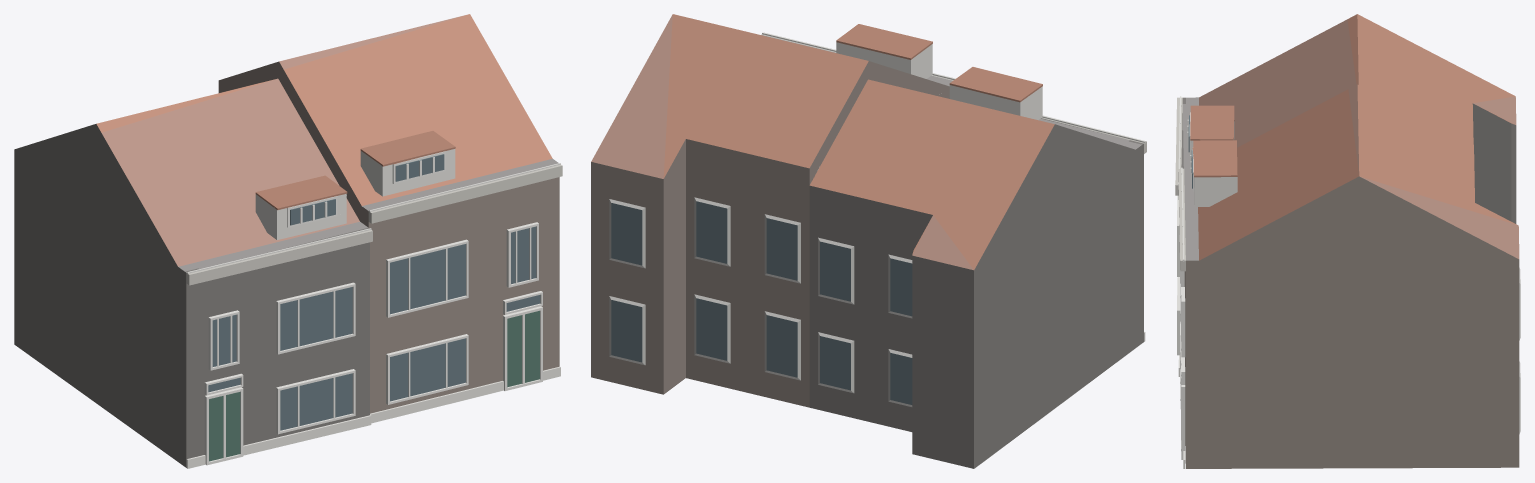
Rendered from chunk-face-kalkoen-18-26-r1.lod2.glb.
3 renders of one model, left to right at view 1: azimuth 30°, elevation 25°; view 2: azimuth 150°, elevation 25°; view 3: azimuth 270°, elevation 25°, orthographic. The views are drawn at different scales.
Visible parts, largest first — view 1: lod2; view 2: lod2; view 3: lod2.
Part boxes in pixels (box(x1,y1,x2,y2)): lod2: box(14, 14, 562, 468); lod2: box(591, 14, 1146, 468); lod2: box(1175, 14, 1520, 468).
Size of the model in its own units: 13.04 by 9.82 by 10.52.
